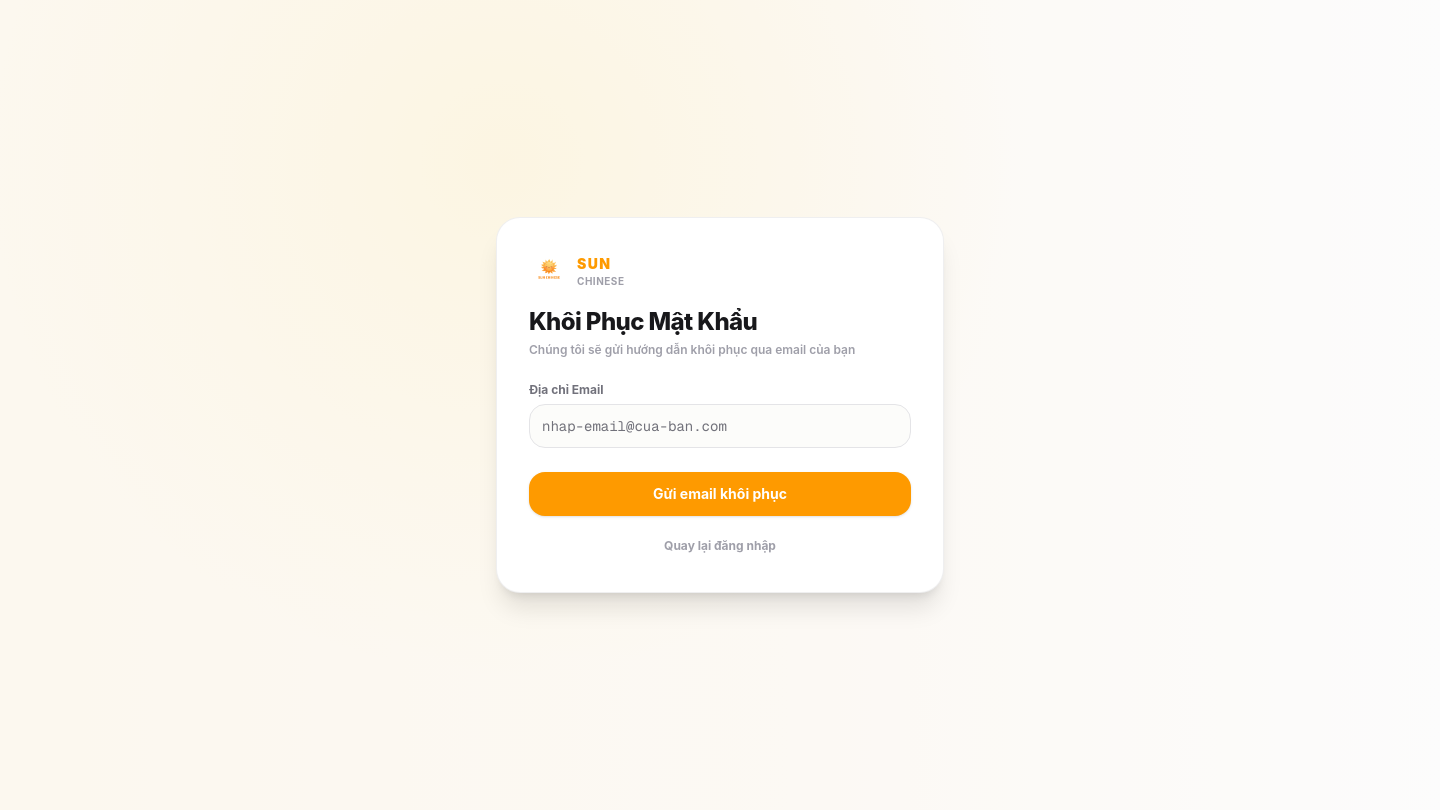
it: ForgotPasswordPage › shows default error message for unknown errors
Type "an@example.com" into the field labelled "Địa chỉ Email" at (720, 426), box [529,404,911,448]
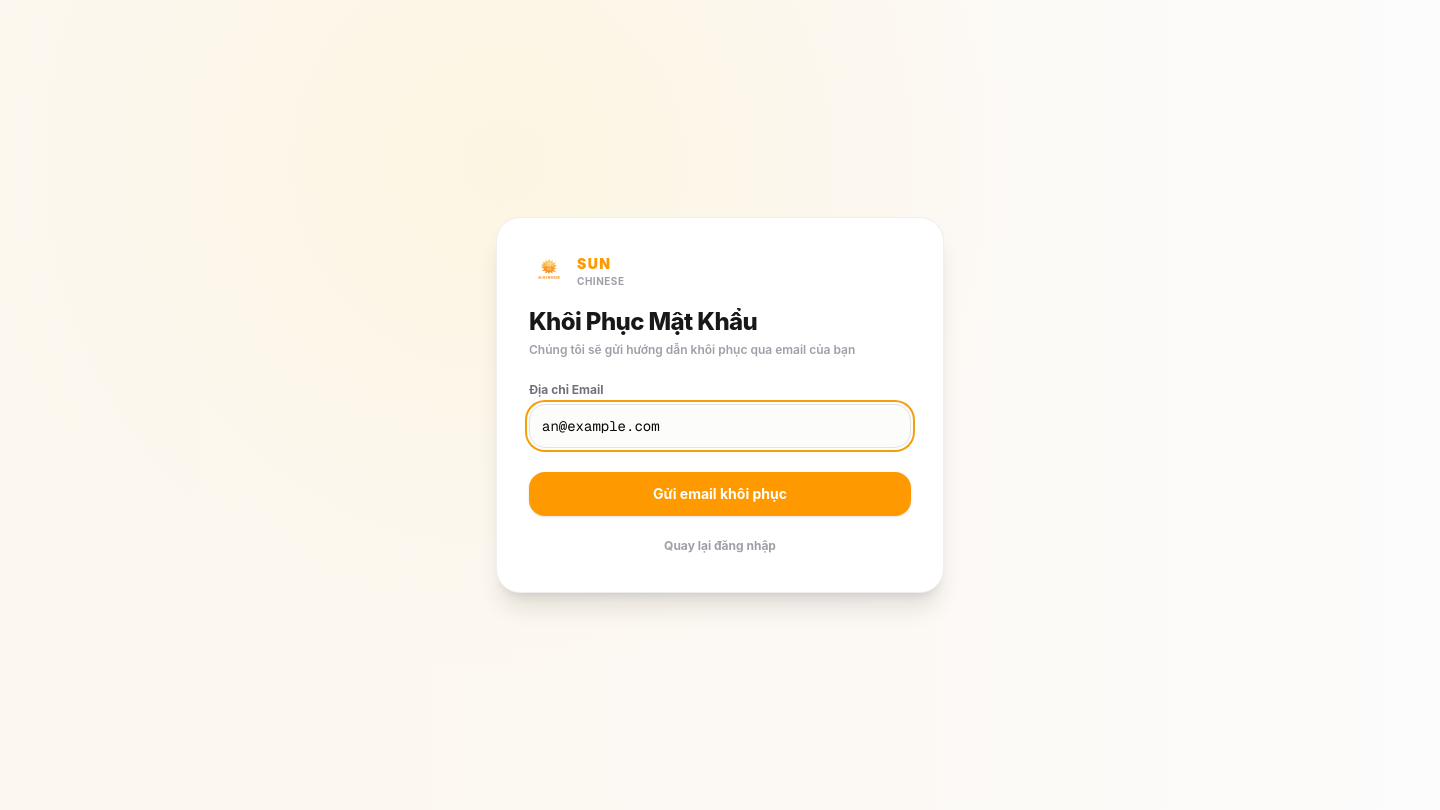
Click the button "Gửi email khôi phục" at (720, 494), box [529,472,911,516]
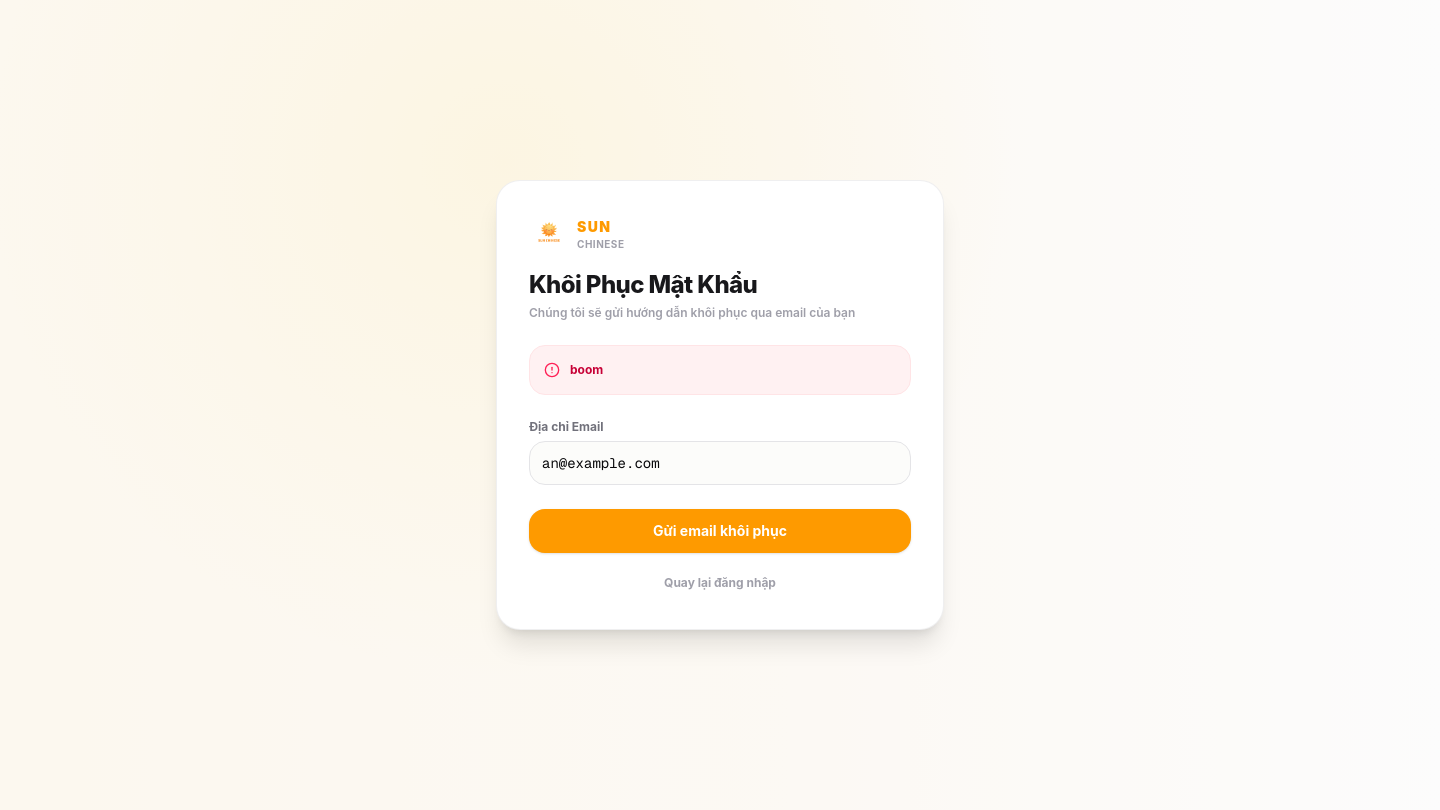
Expected: the text "boom" is shown, [570,360,603,380]
